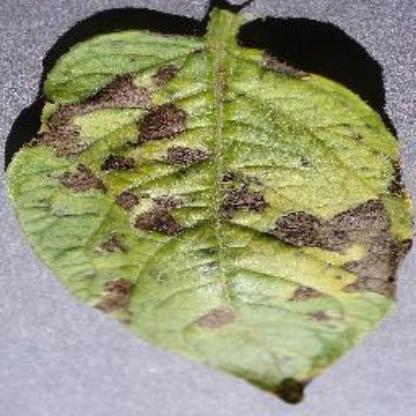Early-Blight: (4, 0, 415, 402)
